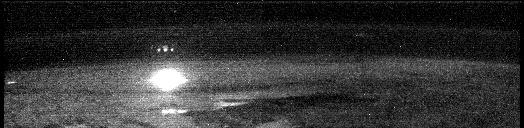positive: (151, 44, 180, 55)
